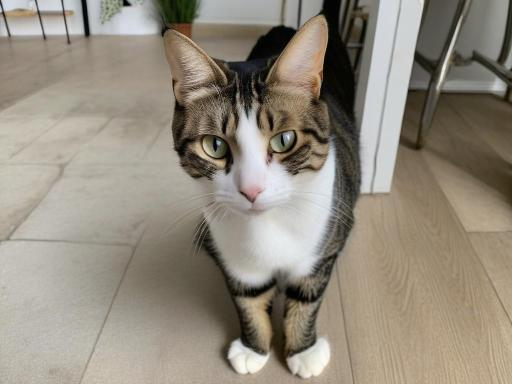cat_standing: (163, 14, 360, 378)
